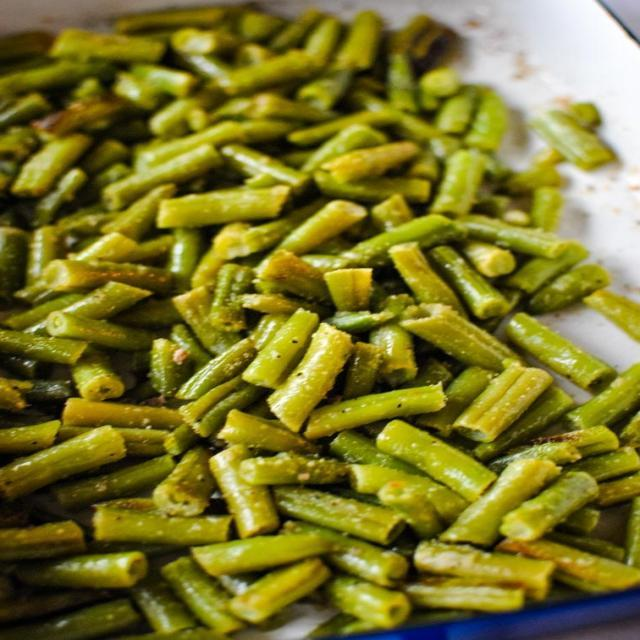Beans: (0, 4, 639, 639)
